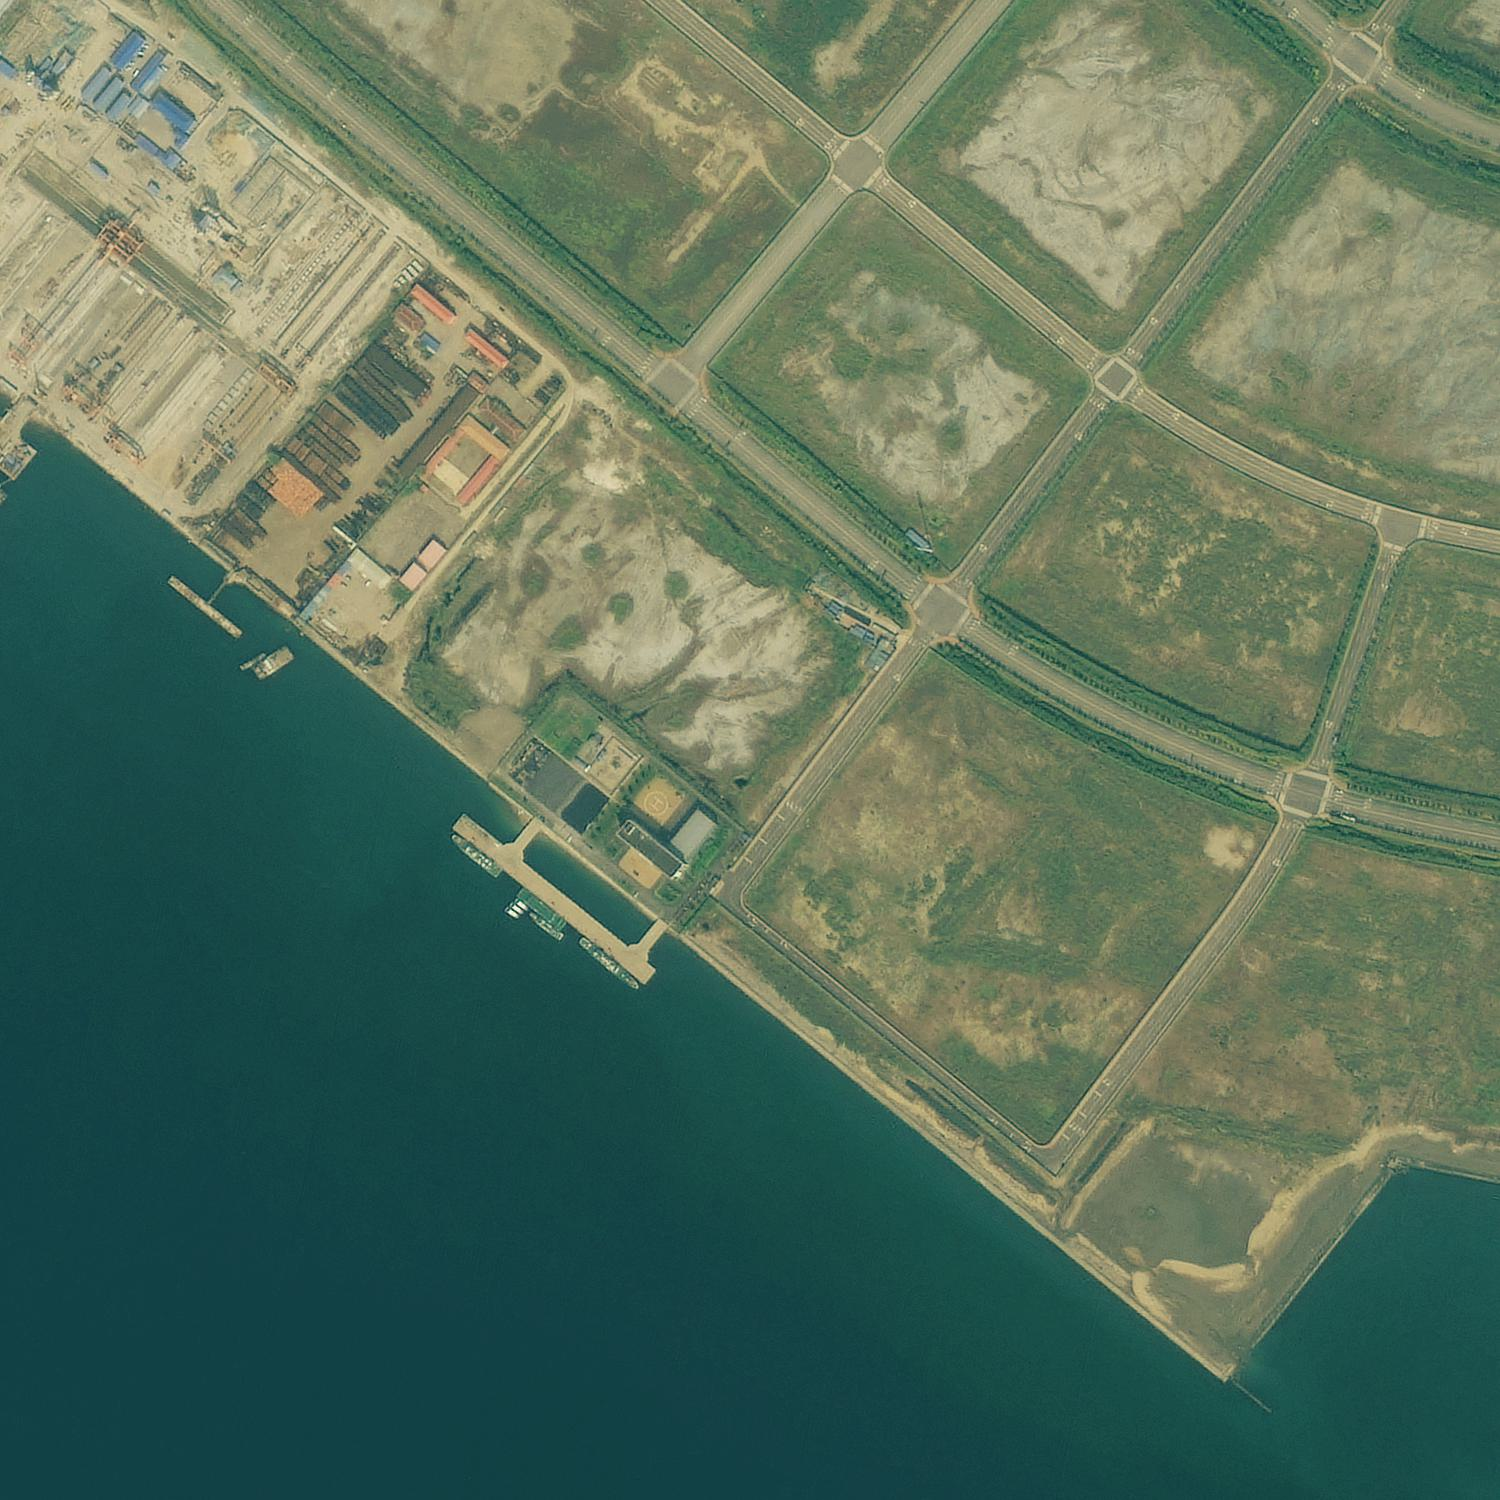A9: (96, 112, 308, 303), (446, 492, 648, 680), (326, 285, 508, 456)
